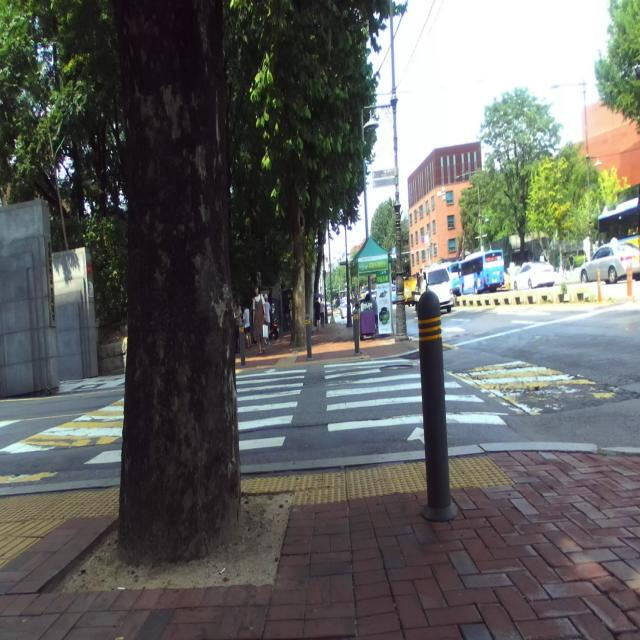횡단보도: (84, 360, 506, 464)
